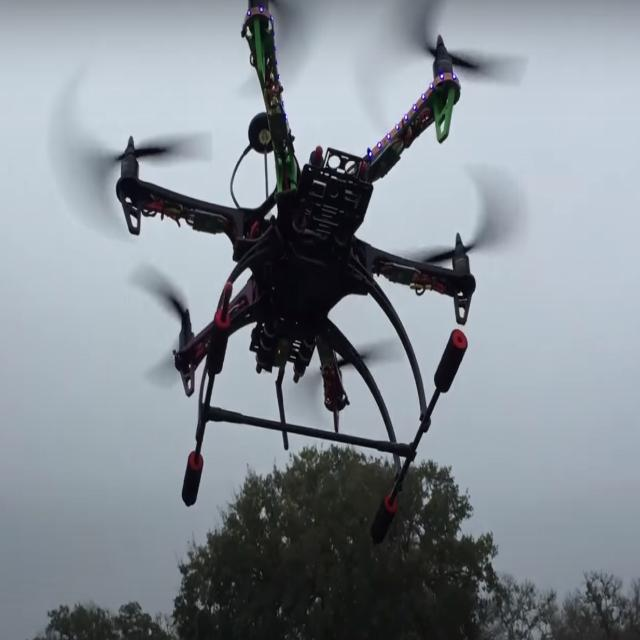drone: (28, 0, 559, 564)
